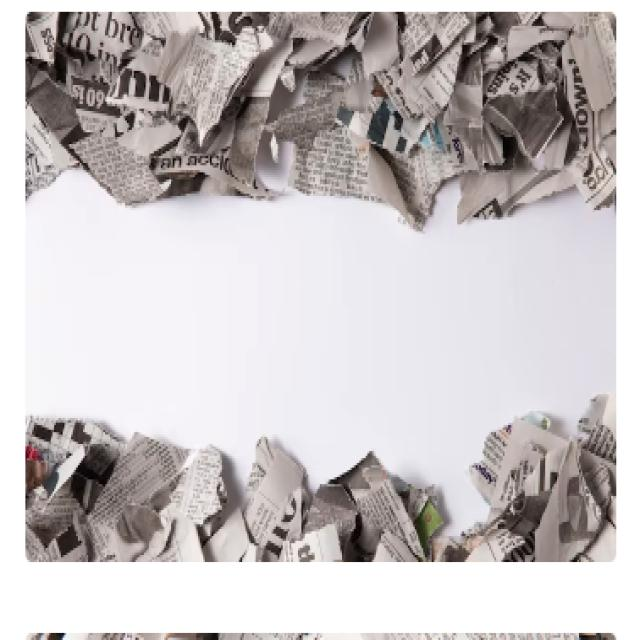Koran: (26, 10, 614, 229), (26, 392, 614, 562)
